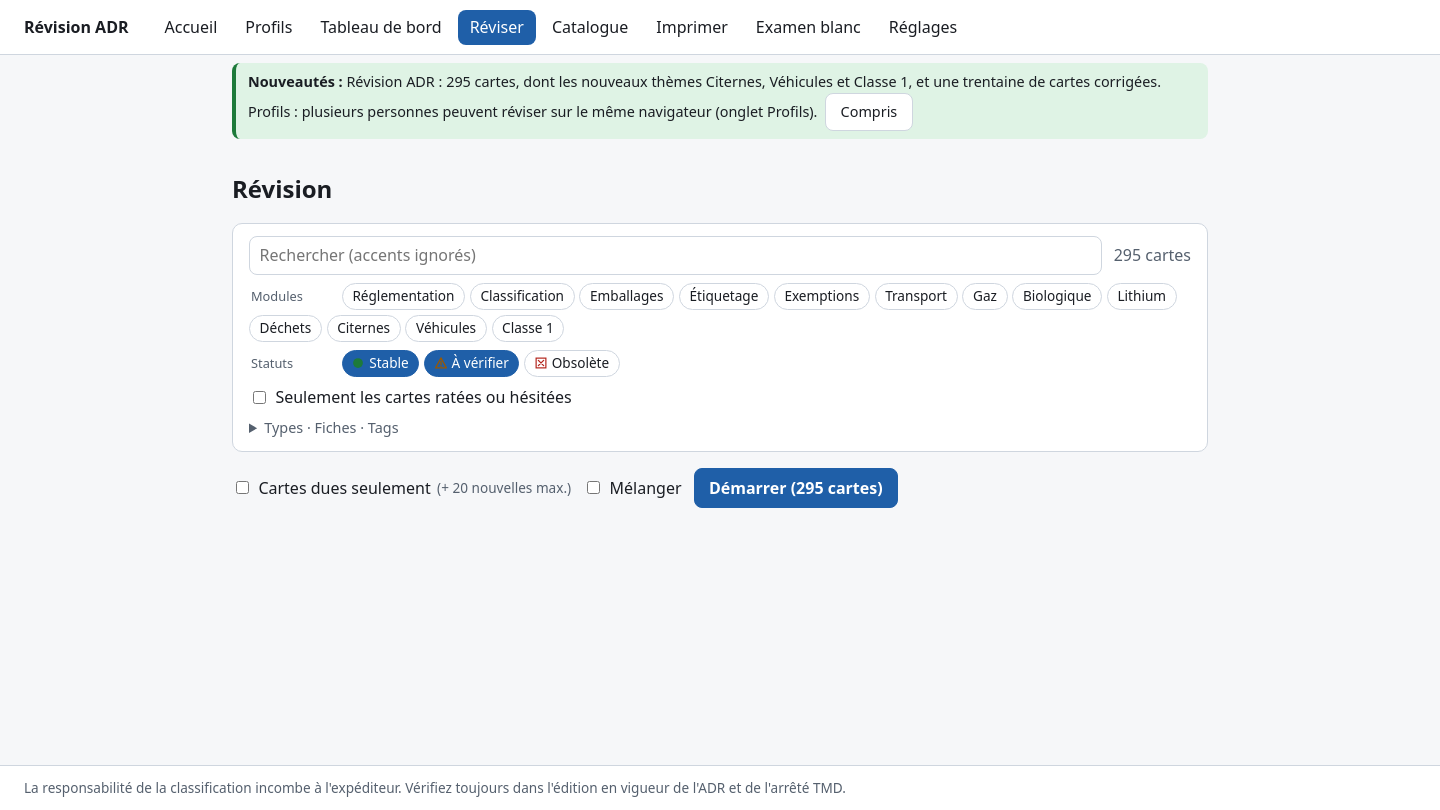
Test: accueil › la révision ADR ne montre que des cartes ADR, avec ses propres onglets
expect the text "Révision ADR" is shown: met, box [24, 15, 128, 39]
Click the button "Démarrer (295 cartes)" at [796, 488], box [694, 468, 898, 508]
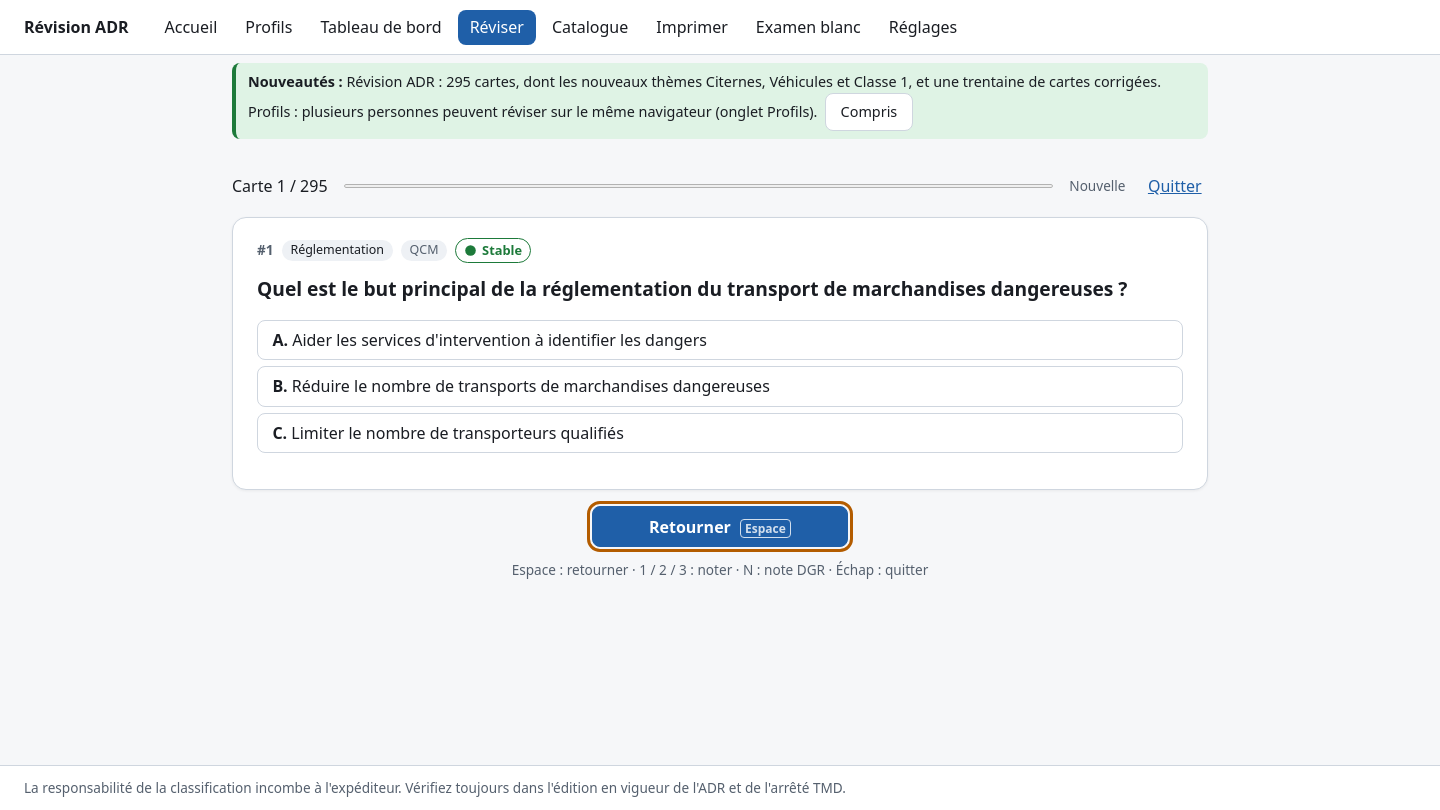
expect the text "Quel est le but principal de la réglementation du transport de marchandises dangereuses ?" is shown: met, box [257, 275, 1128, 302]
